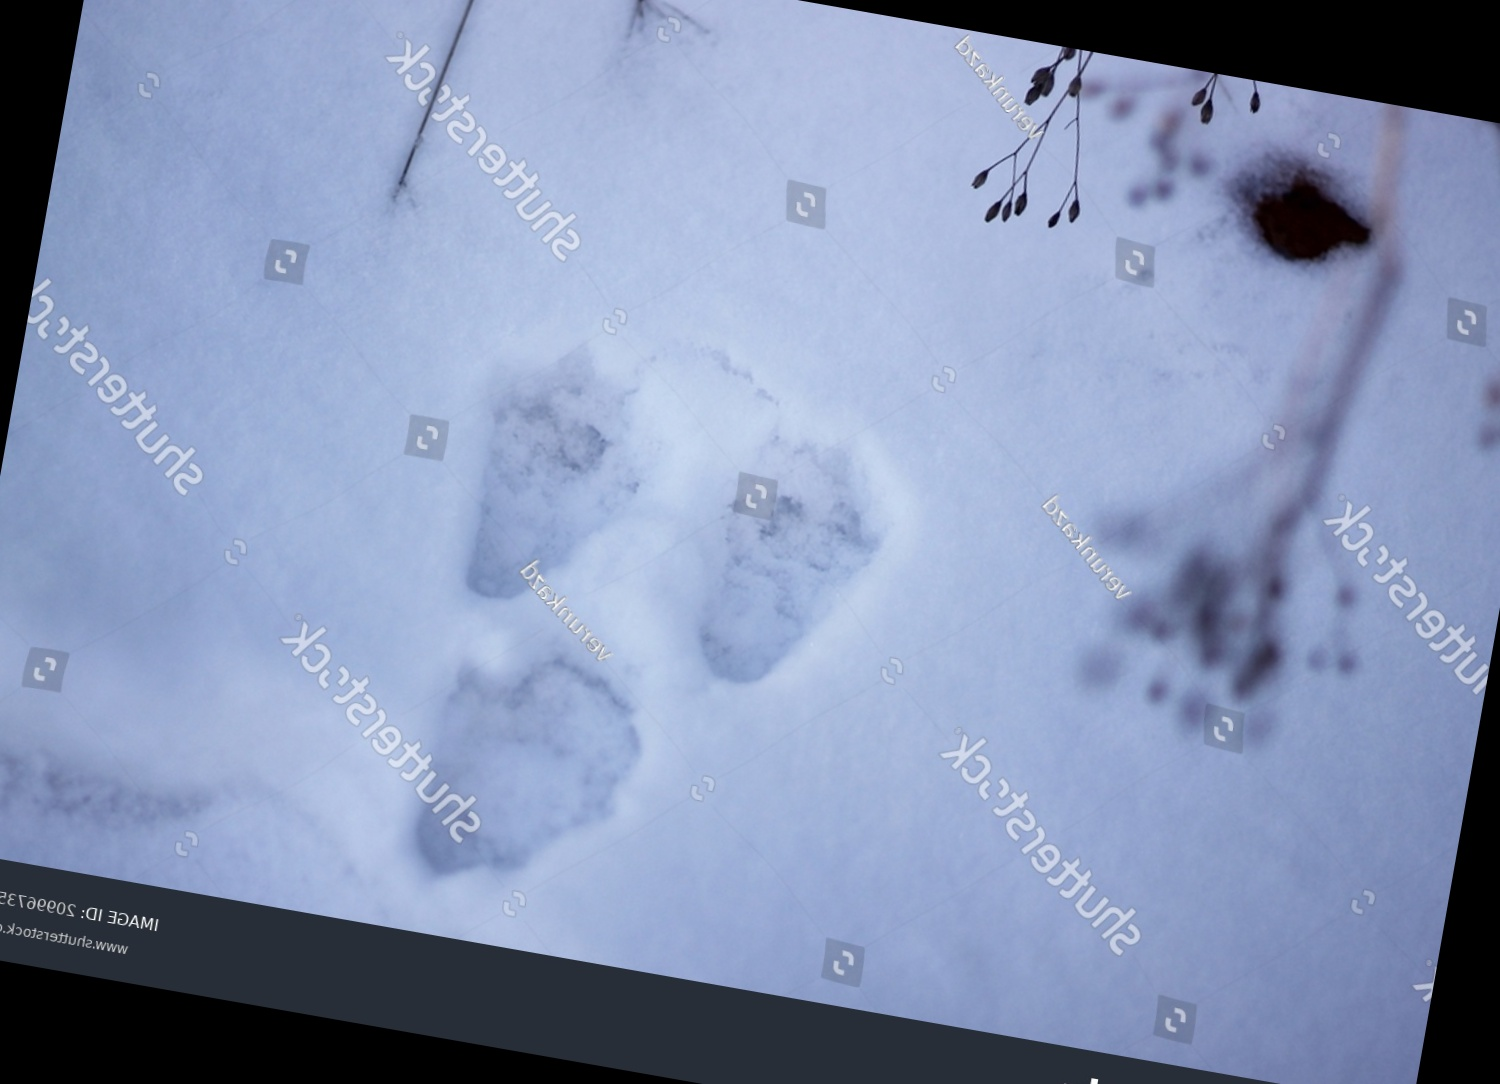rabbit: (318, 611, 696, 942), (635, 403, 940, 759), (397, 348, 709, 652)
